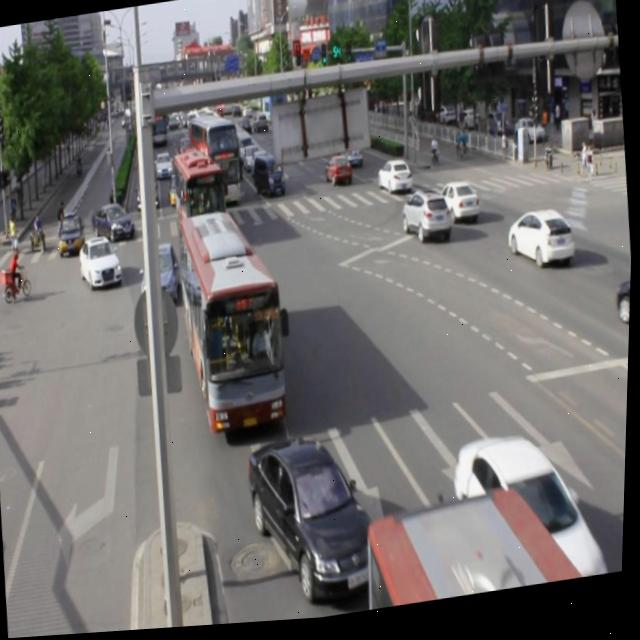car: (451, 428, 613, 603), (245, 426, 392, 615), (505, 210, 577, 280), (399, 191, 452, 250), (139, 241, 183, 311), (78, 233, 124, 294), (435, 182, 482, 230)
van: (363, 484, 593, 615), (173, 205, 295, 440)
